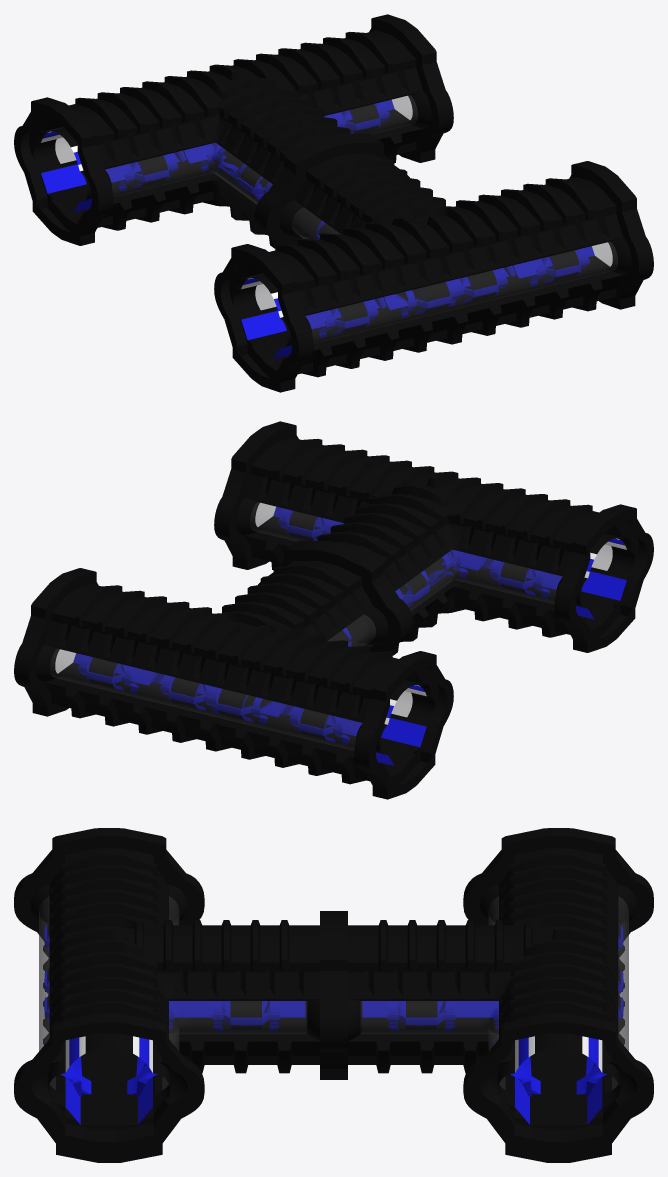
The model's file is Connect_07.FBX.
The picture shows the model from 3 angles, top to bottom: view 1: azimuth 30°, elevation 25°; view 2: azimuth 150°, elevation 25°; view 3: azimuth 270°, elevation 25°; orthographic projection. The views are drawn at different scales.
Parts seen in each view (by area): view 1: Connect_Hshape; view 2: Connect_Hshape; view 3: Connect_Hshape.
Part boxes in pixels (bbox=[...]): Connect_Hshape: bbox=[14, 14, 653, 392]; Connect_Hshape: bbox=[14, 421, 653, 799]; Connect_Hshape: bbox=[14, 828, 653, 1162].
Bounding box in the file's own units: 2270 × 764 × 3156.
